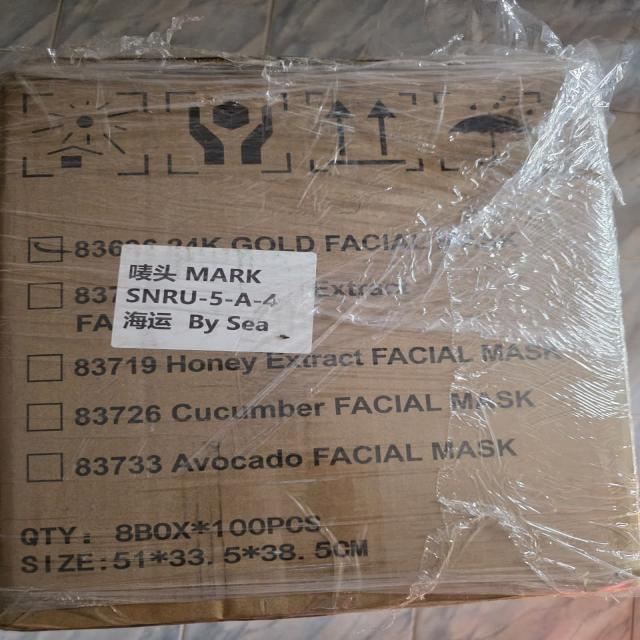carton_box: (0, 53, 640, 624)
export_mark_label: (102, 236, 329, 367)
handle_with_care_label: (153, 73, 303, 185)
keep_dry_label: (444, 86, 570, 184)
protect_from_heat_label: (13, 84, 163, 186)
this_side_up_label: (307, 83, 440, 182)
